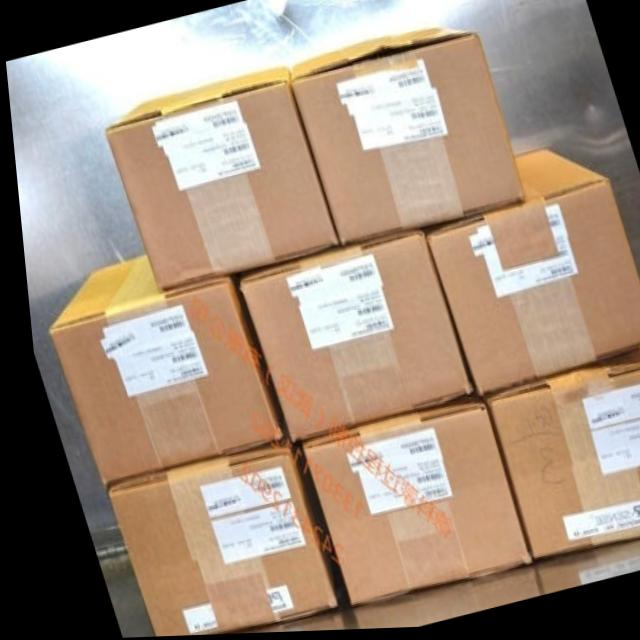box: (422, 149, 640, 400), (41, 255, 275, 488), (286, 30, 519, 248), (103, 73, 334, 290), (98, 421, 330, 637), (235, 228, 465, 445), (291, 399, 522, 610), (477, 349, 640, 560)
